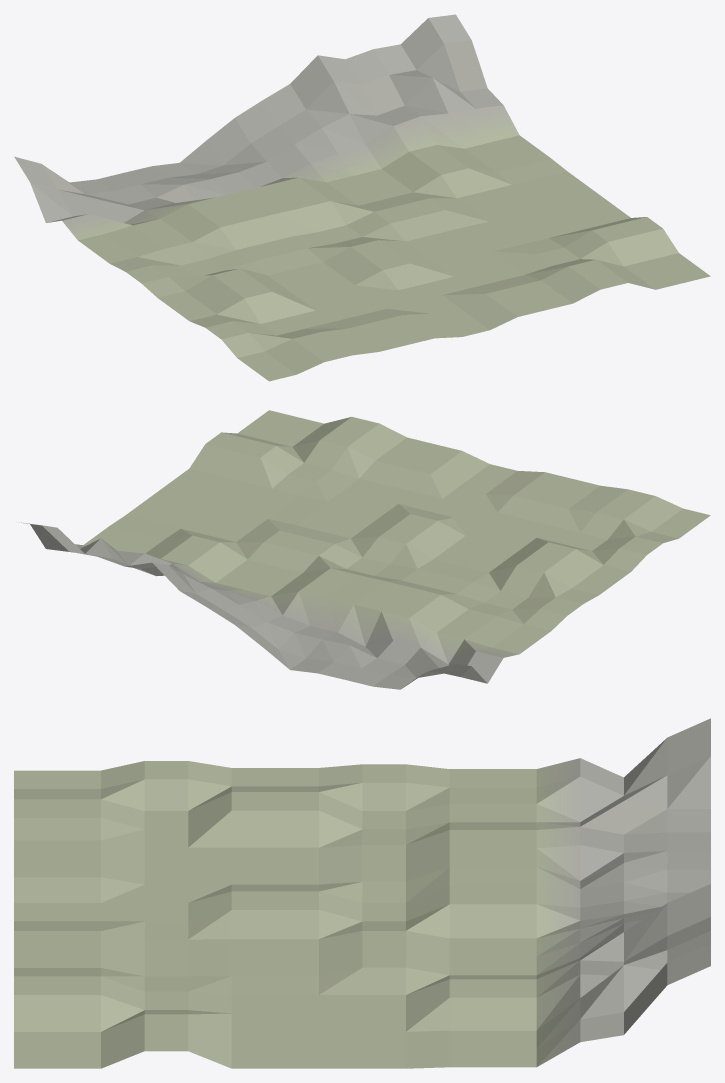
3 views of the same model, one above another, from view 1: azimuth 30°, elevation 25°; view 2: azimuth 150°, elevation 25°; view 3: azimuth 270°, elevation 25° (orthographic). The views are drawn at different scales.
Bounding box in the file's own units: 32 × 6.17 × 32.
